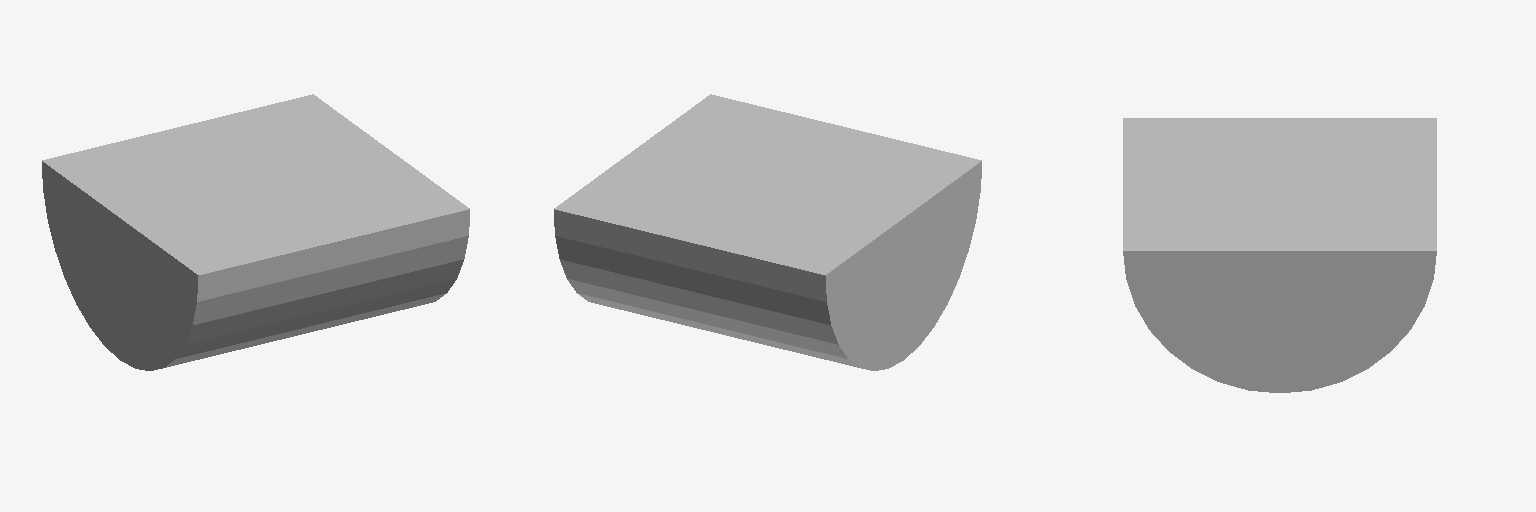
File: hfcyl.obj
3 renders of one model, left to right at view 1: azimuth 30°, elevation 25°; view 2: azimuth 150°, elevation 25°; view 3: azimuth 270°, elevation 25°, orthographic.
Visible parts, largest first — view 1: Cylinder; view 2: Cylinder; view 3: Cylinder.
Boxes of the visible parts, x1,y1,x2,y2 form: Cylinder: [42, 94, 469, 370]; Cylinder: [554, 94, 981, 370]; Cylinder: [1123, 118, 1436, 392].
Size of the model in its own units: 2 by 1 by 2.